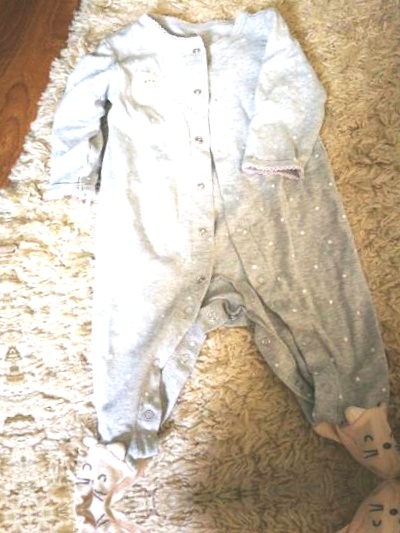Body: (1, 0, 400, 509), (52, 481, 400, 533), (0, 13, 5, 533), (0, 522, 56, 533)
